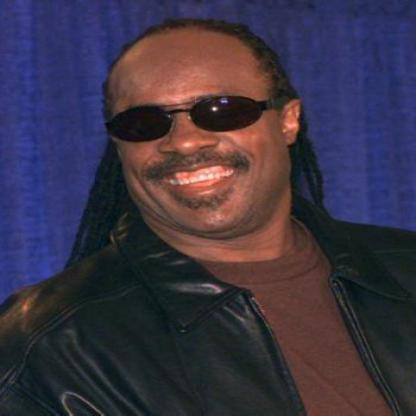face: (113, 24, 286, 239)
